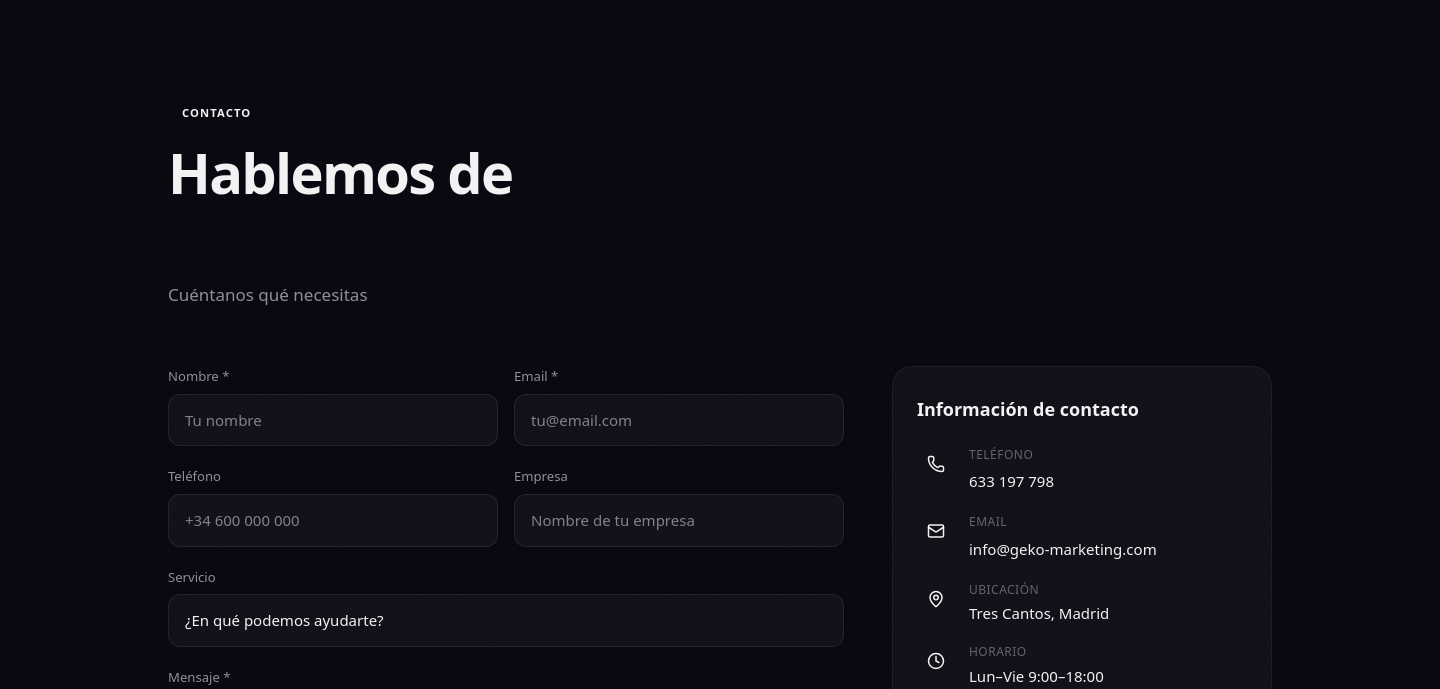
Scenario: ContactoClient — formulario › muestra estado de éxito tras envío correcto
Type "Ana García" into the field labelled "Nombre *".
click(333, 420); type("Ana García")  # box [168,394,498,446]
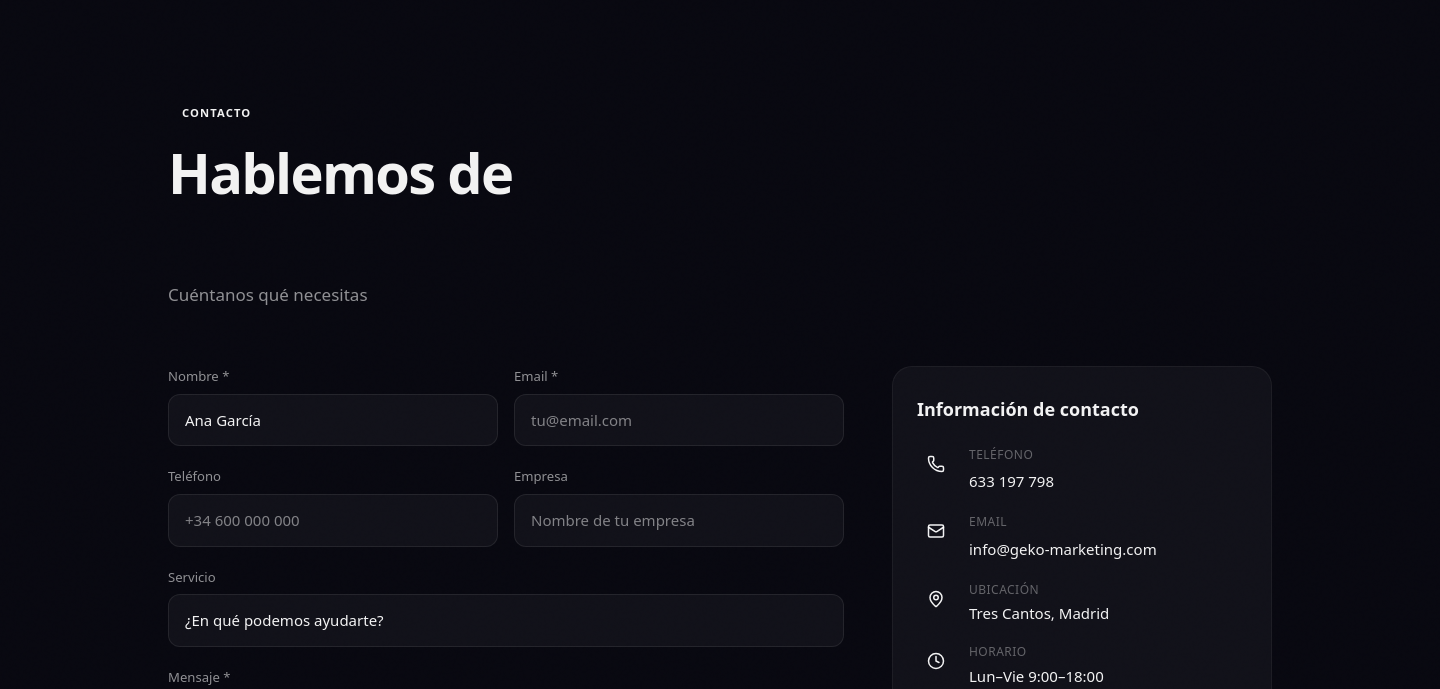
Type "ana@ejemplo.com" into the field labelled "Email *".
click(679, 420); type("ana@ejemplo.com")  # box [514,394,844,446]
(page scrolled)
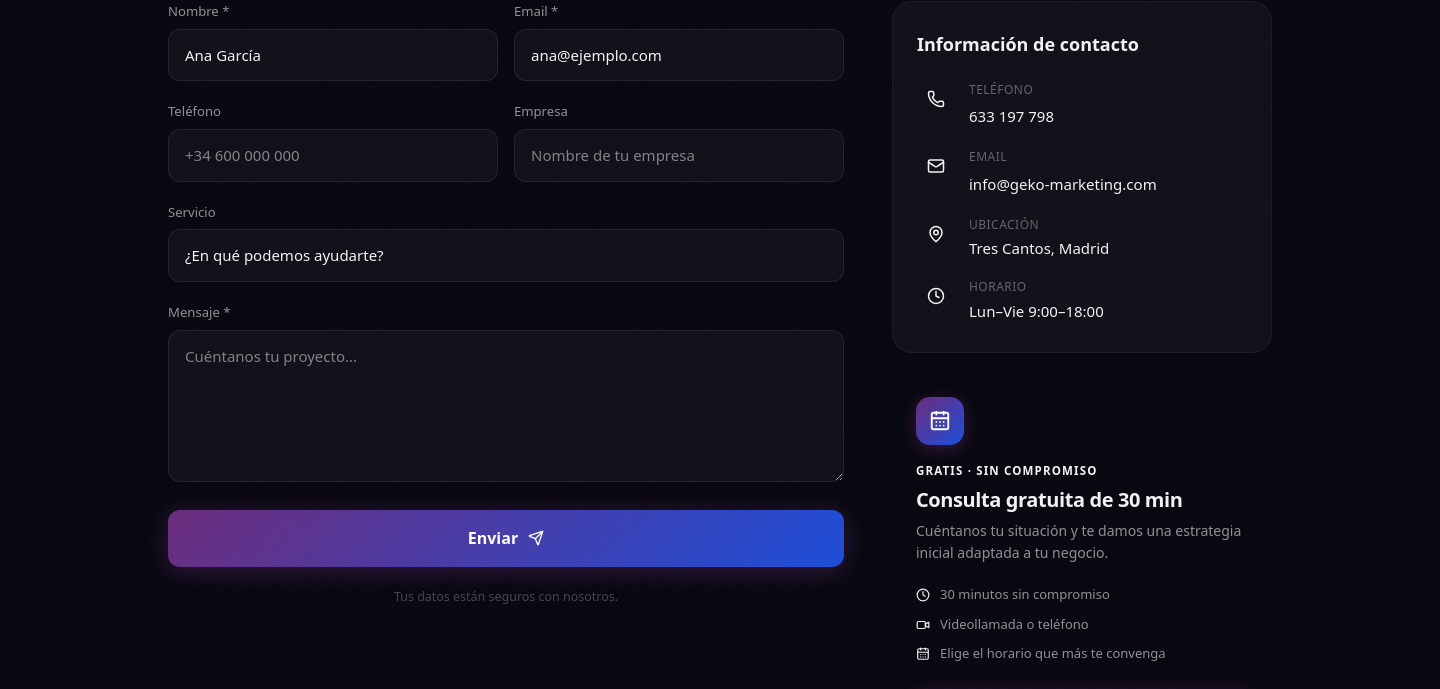
Type "Me interesa el servicio de branding" into the text box labelled "Mensaje *".
click(506, 406); type("Me interesa el servicio de branding")  # box [168,330,844,482]
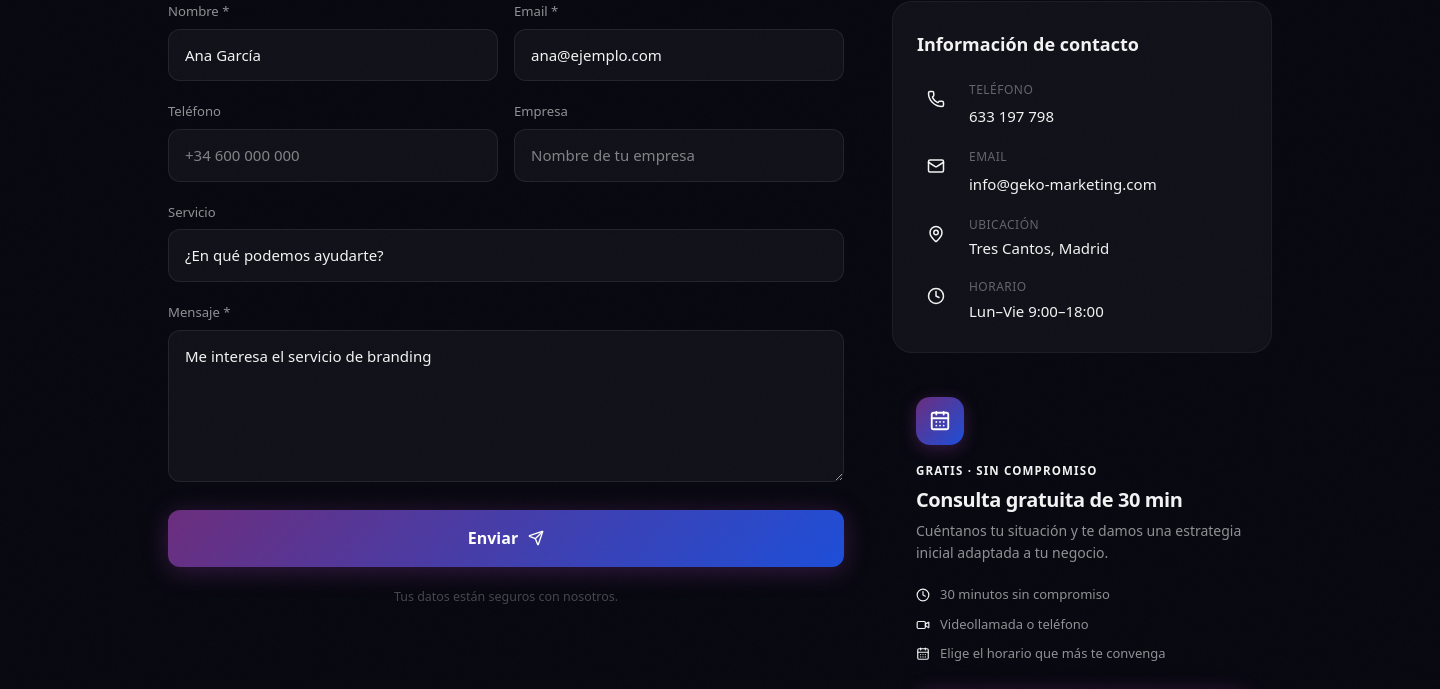
Click the button "Enviar".
click(506, 538)  # box [168,510,844,567]
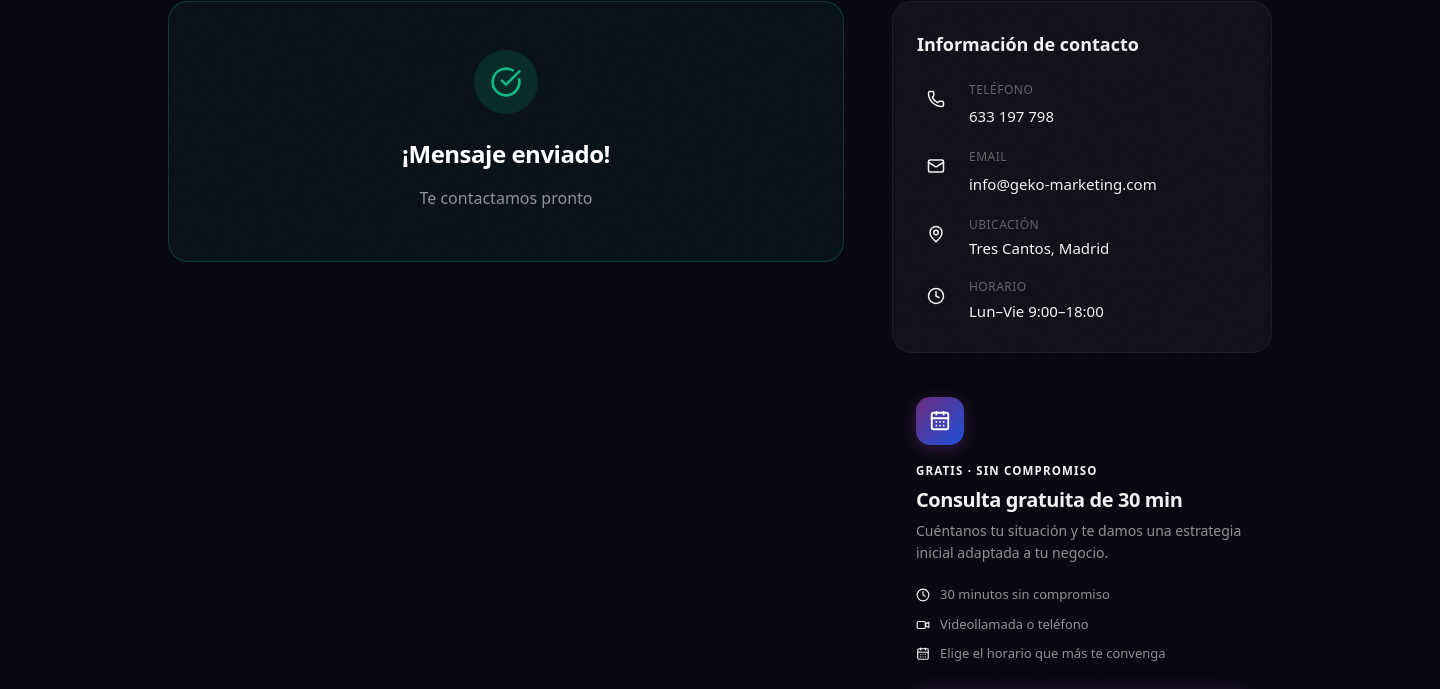
Check: the heading "¡Mensaje enviado!" is shown, box [402,137,610,170]
